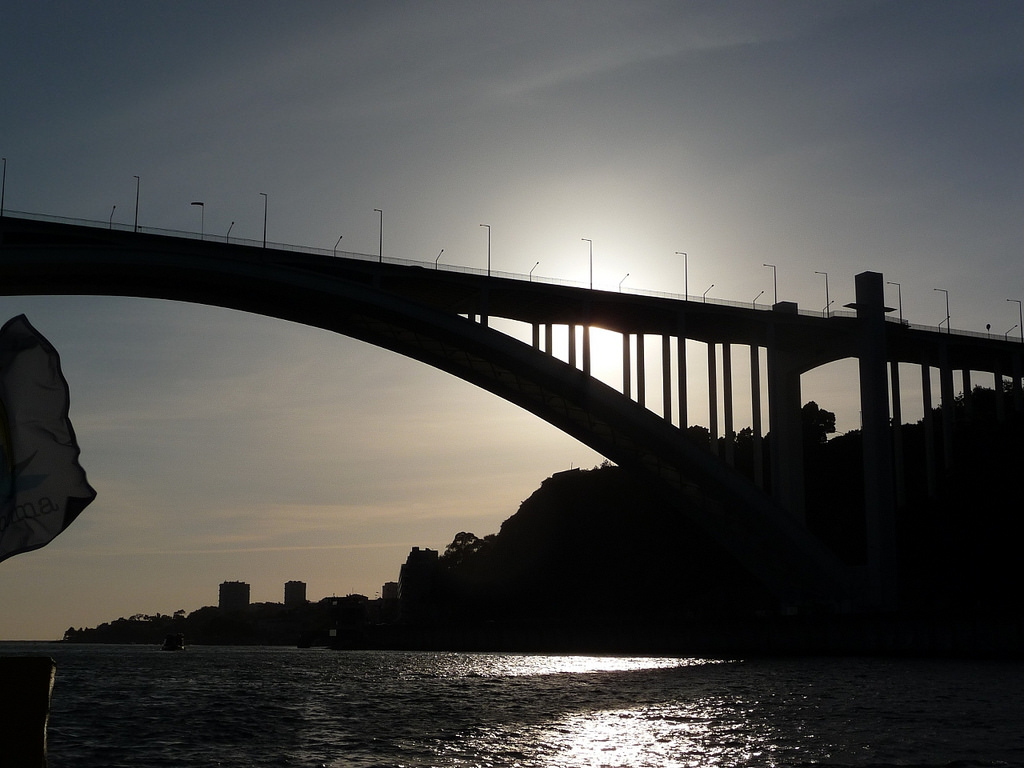arrabida: (0, 210, 1023, 598)
